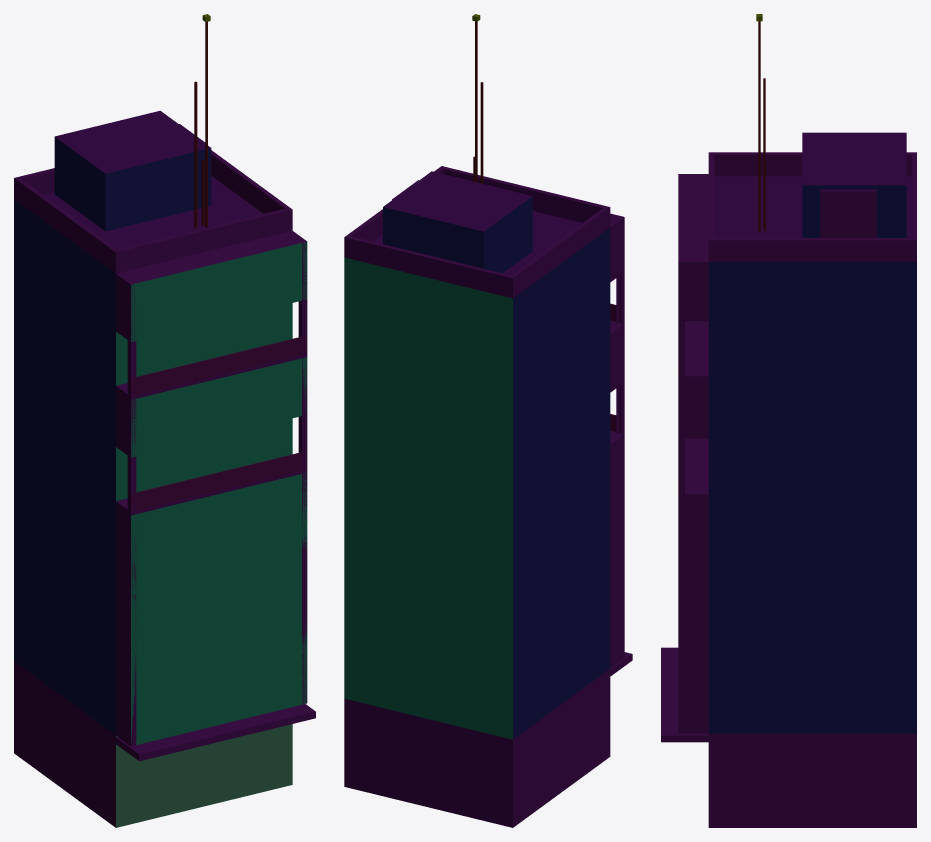
Rendered from walkup_d.lod1.glb.
The picture shows the model from 3 angles, left to right: view 1: azimuth 30°, elevation 25°; view 2: azimuth 150°, elevation 25°; view 3: azimuth 270°, elevation 25°; orthographic projection. The views are drawn at different scales.
Parts seen in each view (by area): view 1: walkup_d.lod1; view 2: walkup_d.lod1; view 3: walkup_d.lod1.
Part boxes in pixels (left/top/right/bottom): walkup_d.lod1: left=14, top=14, right=315, bottom=827; walkup_d.lod1: left=344, top=14, right=632, bottom=827; walkup_d.lod1: left=661, top=14, right=916, bottom=827.
Bounding box in the file's own units: 9.6 × 39.8 × 11.8.
